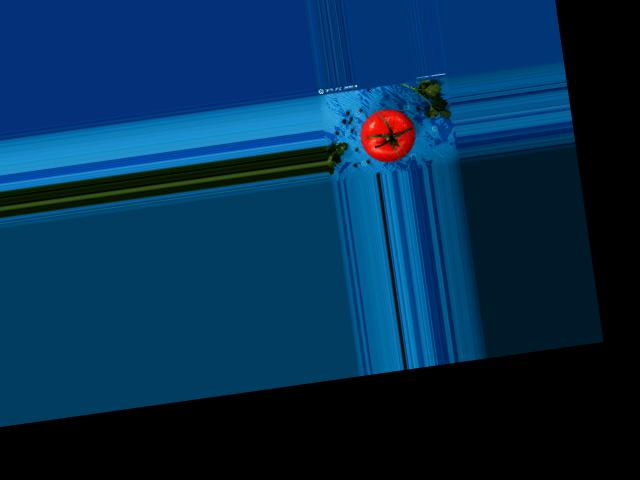tomato: (357, 105, 419, 164)
